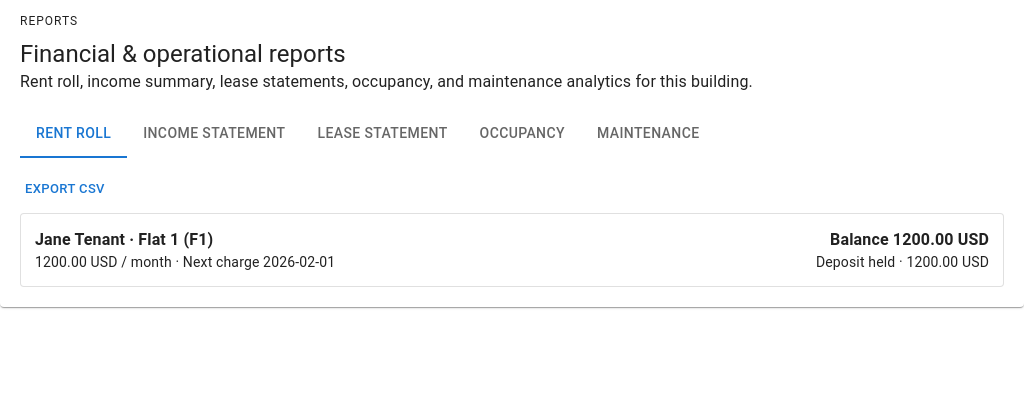
Scenario: flags an end date before the start date, holds back the query and the export
Click the tab "Income statement" at x=214, y=134, box top-left (127, 110), bottom-right (302, 158)
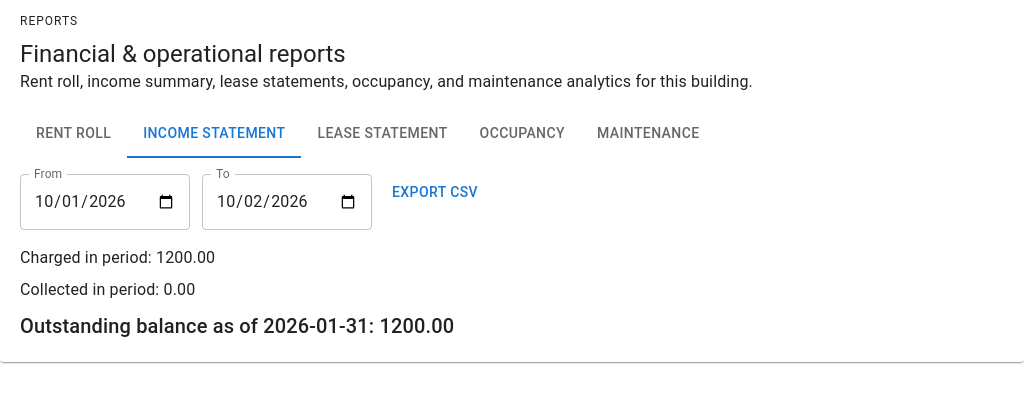
Type "2026-03-10" into the date field labelled "From" at x=105, y=202, box top-left (20, 174), bottom-right (190, 230)
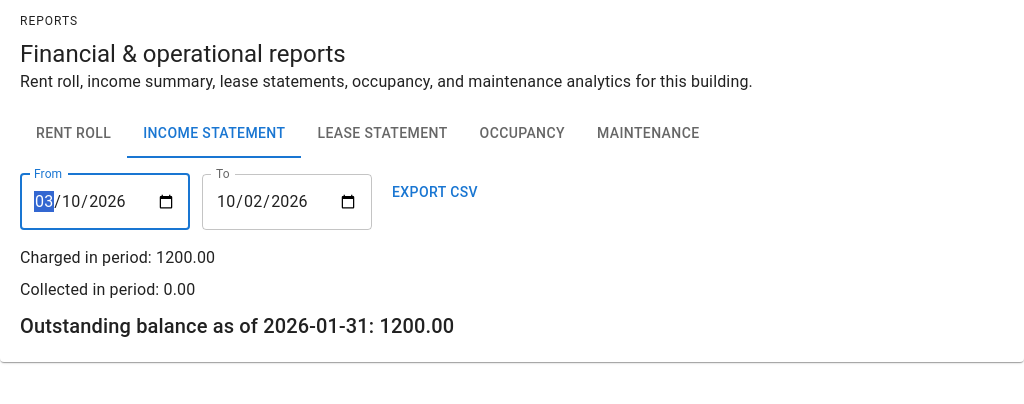
Type "2026-03-01" into the date field labelled "To" at x=287, y=202, box top-left (202, 174), bottom-right (372, 230)
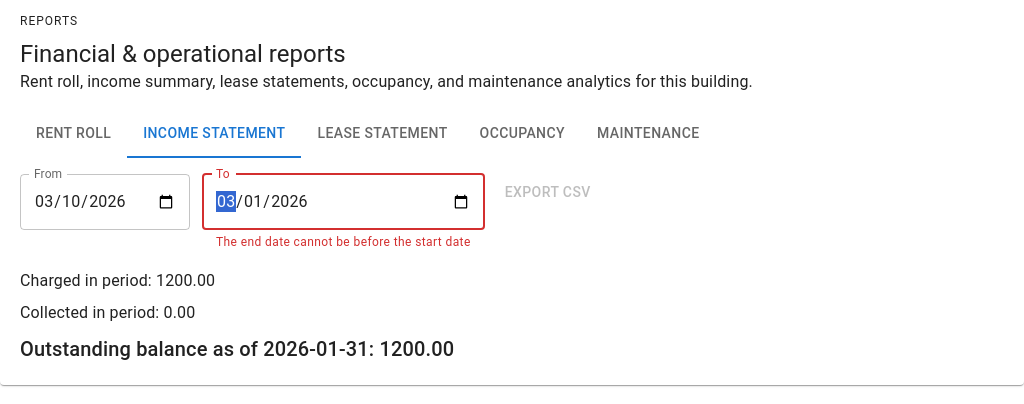
Now the button "Export CSV" is disabled, box top-left (497, 174), bottom-right (599, 210)
Now the text "The end date cannot be before the start date" is shown, box top-left (216, 233), bottom-right (471, 253)
Clear the date field labelled "To" at x=343, y=202, box top-left (202, 174), bottom-right (485, 230)
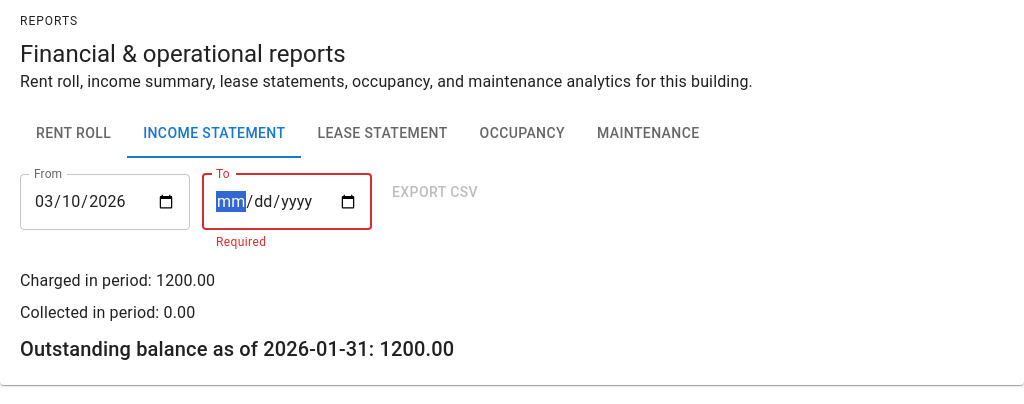
Type "2026-03-31" into the date field labelled "To" at x=287, y=202, box top-left (202, 174), bottom-right (372, 230)
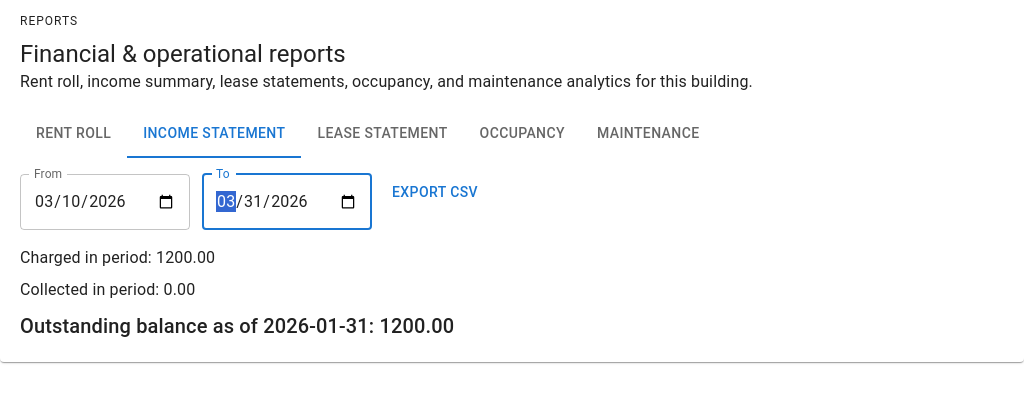
Expected: the text "The end date cannot be before the start date" is not shown
Now the button "Export CSV" is enabled, box top-left (384, 174), bottom-right (486, 210)
